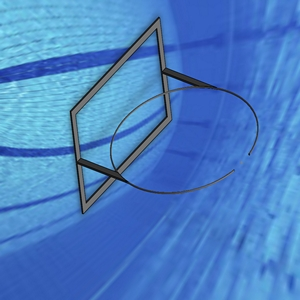circle: (69, 13, 261, 215)
